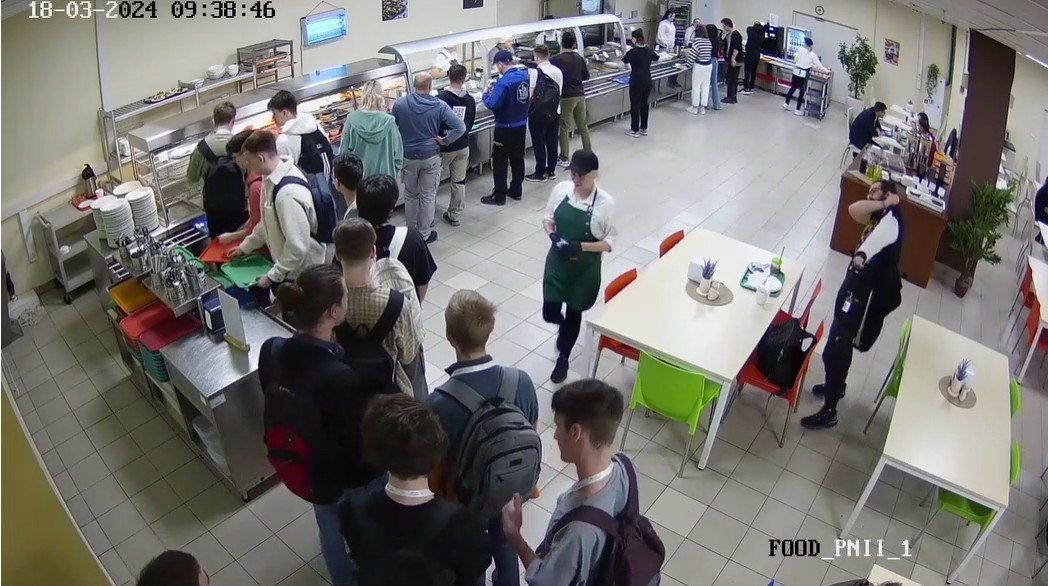Na_Kasse: (688, 25, 711, 111), (722, 16, 743, 102), (708, 23, 725, 112), (744, 19, 757, 92)
Ne_v_Ocheredi: (254, 267, 369, 573), (423, 281, 557, 508), (344, 393, 495, 586), (806, 182, 915, 432), (534, 382, 658, 586), (326, 212, 426, 380), (128, 540, 247, 586), (360, 163, 421, 245), (315, 158, 375, 225)
Personal: (544, 149, 616, 382), (781, 37, 818, 105), (655, 5, 680, 54), (433, 33, 463, 66)
Vybiraet: (241, 136, 312, 273), (396, 72, 445, 240), (482, 44, 527, 206), (185, 96, 241, 222), (338, 74, 401, 169), (436, 67, 472, 221), (268, 94, 328, 168), (529, 41, 558, 176), (560, 35, 591, 150), (620, 31, 651, 136)
Za_Stolom: (840, 102, 886, 161), (903, 103, 935, 146), (1032, 170, 1048, 249)
